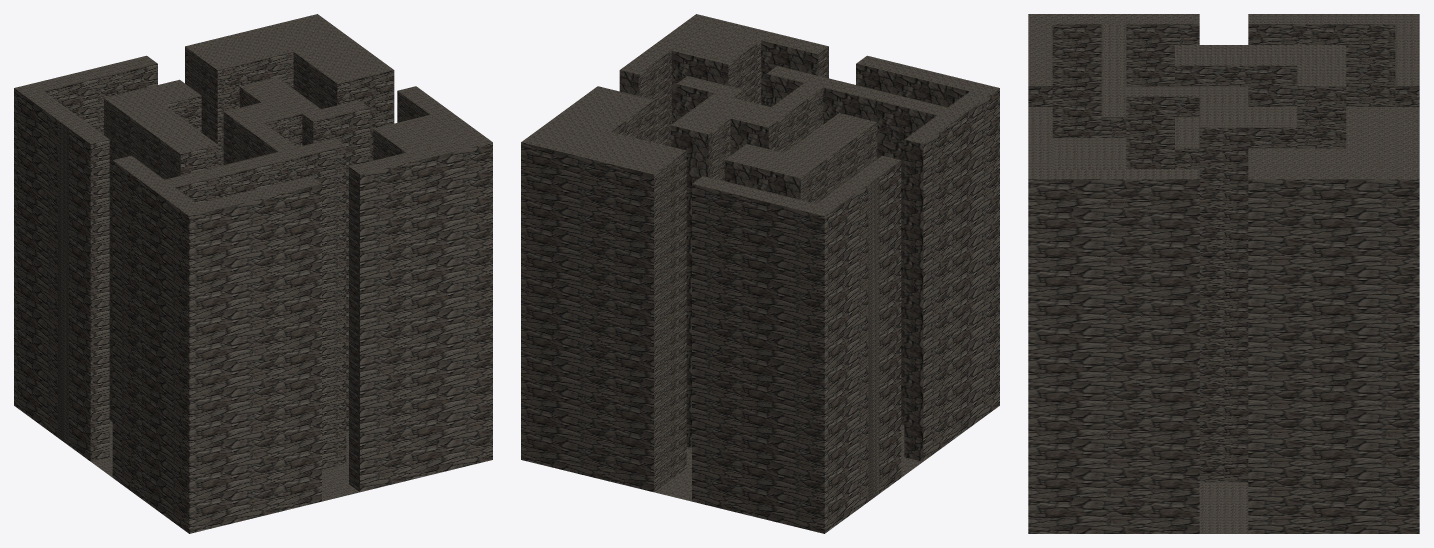
File: AllWayTempTile2.fbx
The picture shows the model from 3 angles, left to right: view 1: azimuth 30°, elevation 25°; view 2: azimuth 150°, elevation 25°; view 3: azimuth 270°, elevation 25°; orthographic projection. The views are drawn at different scales.
Visible parts, largest first — view 1: Plane; view 2: Plane; view 3: Plane.
Part boxes in pixels (box(x1,y1,x2,y2)): Plane: box(14, 14, 492, 533); Plane: box(521, 14, 999, 533); Plane: box(1028, 14, 1419, 533).
Bounding box in the file's own units: 1600 × 1600 × 1600.
